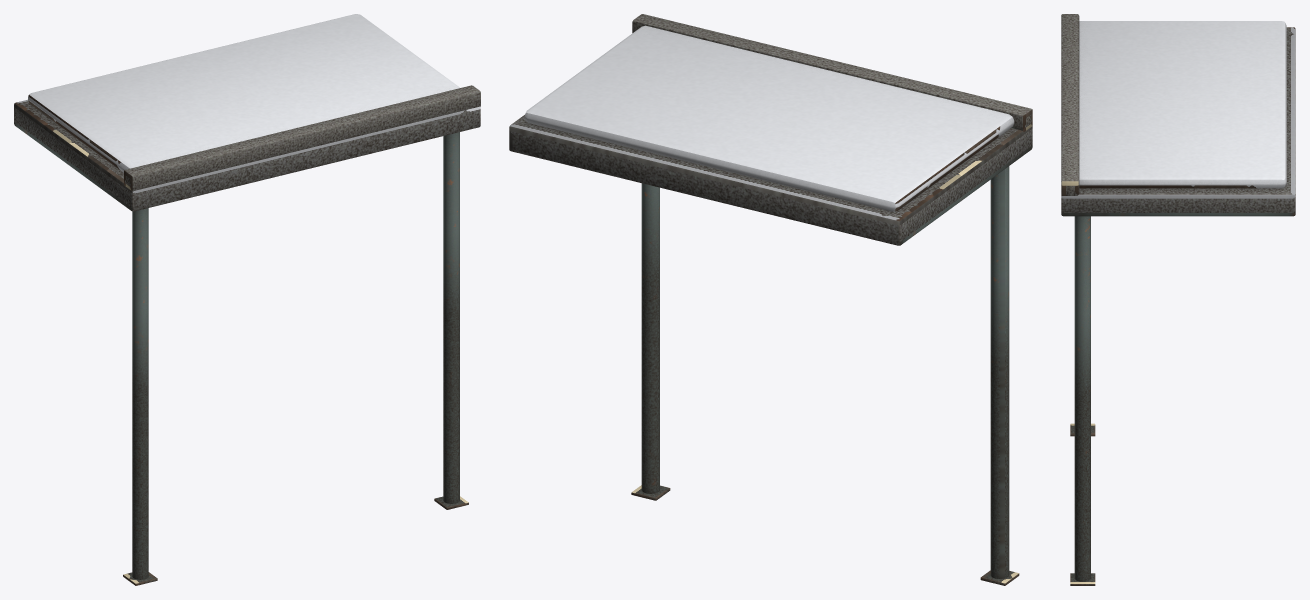
Rendered from g67_fx_canopy.glb.
The picture shows the model from 3 angles, left to right: view 1: azimuth 30°, elevation 25°; view 2: azimuth 150°, elevation 25°; view 3: azimuth 270°, elevation 25°; orthographic projection. The views are drawn at different scales.
Visible parts, largest first — view 1: snow, slab, rim_f, pipe, pipe.001; view 2: snow, slab, pipe, pipe.001, rim_f; view 3: snow, slab, pipe.001, rim_f.
Part boxes in pixels (x1,y1,x2,y2): snow: (28, 14, 459, 172); slab: (14, 99, 480, 211); rim_f: (124, 85, 480, 191); pipe: (132, 208, 148, 579); pipe.001: (443, 132, 459, 503); snow: (524, 25, 1014, 211); slab: (509, 115, 1032, 245); pipe: (990, 166, 1009, 578); pipe.001: (641, 183, 659, 493); rim_f: (632, 14, 1032, 131); snow: (1079, 21, 1286, 188); slab: (1061, 27, 1295, 216); pipe.001: (1074, 216, 1090, 581); rim_f: (1061, 14, 1079, 195).
Size of the model in its own units: 2.2 by 2.5 by 1.3.
1 material, 1 textured.
